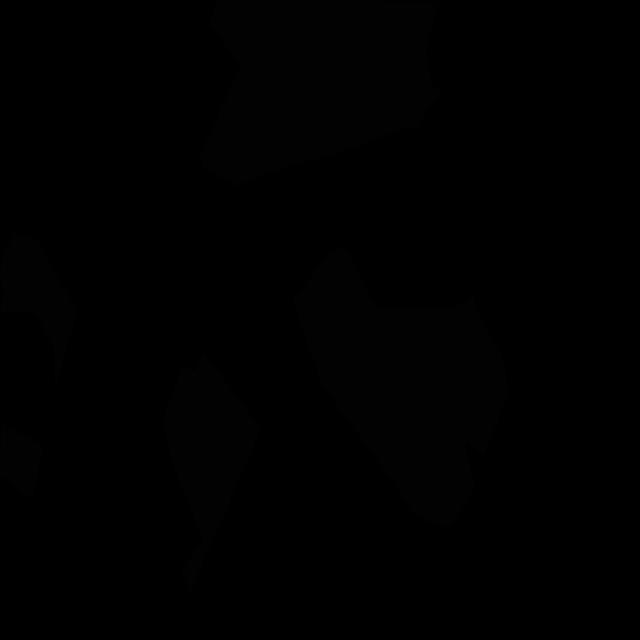cardboard: (292, 247, 509, 528), (200, 0, 442, 187), (162, 353, 261, 592), (0, 232, 78, 391), (0, 423, 44, 500)
